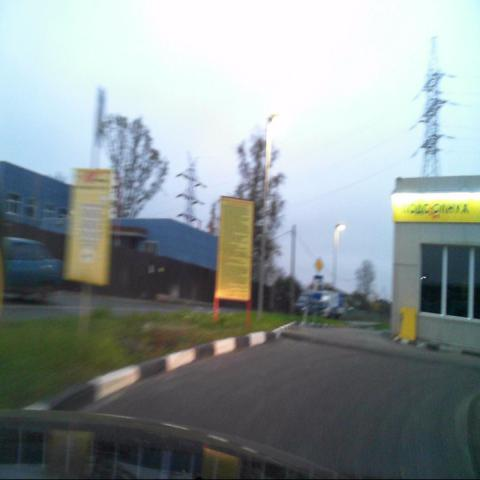2_1: (314, 256, 324, 273)
